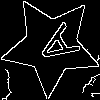A: (26, 21, 81, 74)
